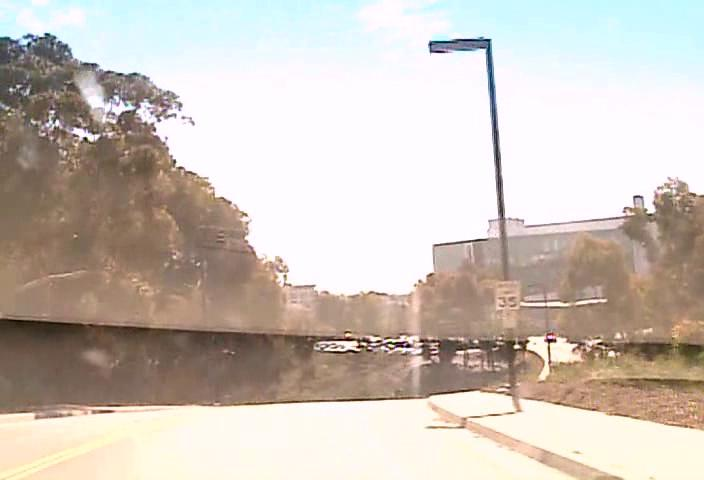speedLimit35: (494, 279, 520, 311)
